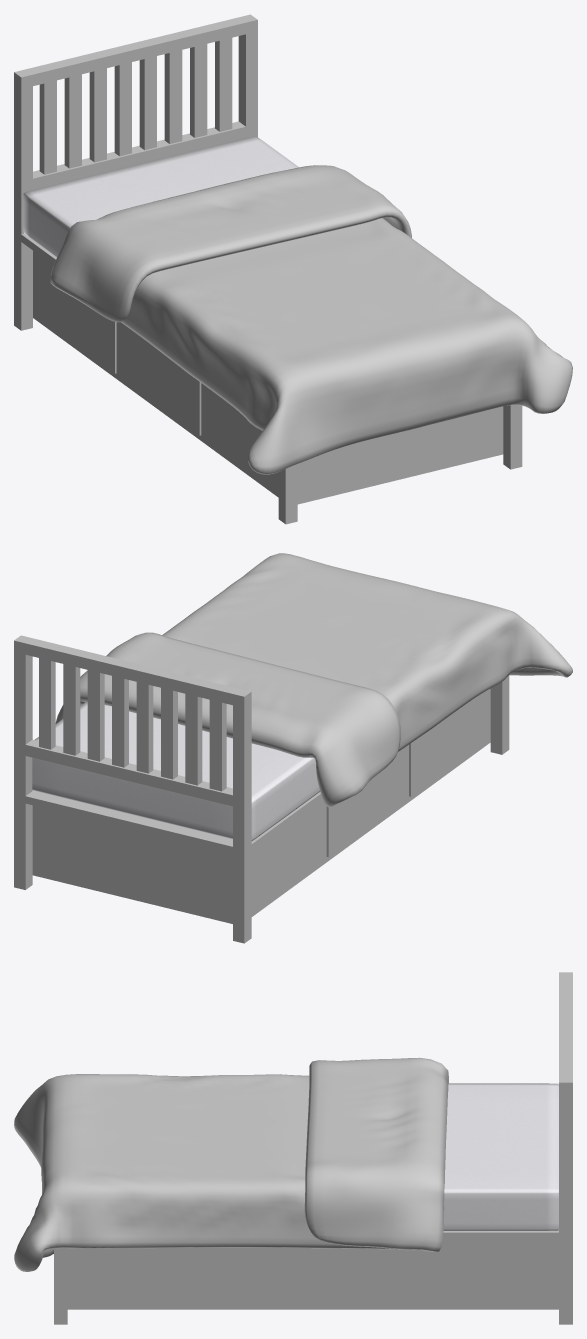
The model's file is Bed13.fbx.
3 views of the same model, one above another, from view 1: azimuth 30°, elevation 25°; view 2: azimuth 150°, elevation 25°; view 3: azimuth 270°, elevation 25° (orthographic). The views are drawn at different scales.
Visible parts, largest first — view 1: Blanket13, BedFrame13, Mattress13, BedFrame13_Drawer02, BedFrame13_Drawer01, BedFrame13_Drawer03; view 2: Blanket13, BedFrame13, Mattress13, BedFrame13_Drawer01, BedFrame13_Drawer03, BedFrame13_Drawer02; view 3: Blanket13, BedFrame13, Mattress13.
Part boxes in pixels (x1,y1,x2,y2): Blanket13: (50, 165, 572, 474); BedFrame13: (14, 14, 522, 524); Mattress13: (23, 136, 298, 257); BedFrame13_Drawer02: (120, 322, 201, 435); BedFrame13_Drawer01: (34, 252, 116, 373); BedFrame13_Drawer03: (204, 386, 278, 493); Blanket13: (55, 553, 572, 807); BedFrame13: (14, 635, 509, 943); Mattress13: (32, 702, 320, 840); BedFrame13_Drawer01: (251, 800, 323, 912); BedFrame13_Drawer03: (409, 689, 489, 796); BedFrame13_Drawer02: (326, 747, 405, 857); Blanket13: (14, 1057, 448, 1271); BedFrame13: (54, 972, 572, 1324); Mattress13: (443, 1083, 558, 1230).
Bounding box in the file's own units: 146 × 108 × 226.
